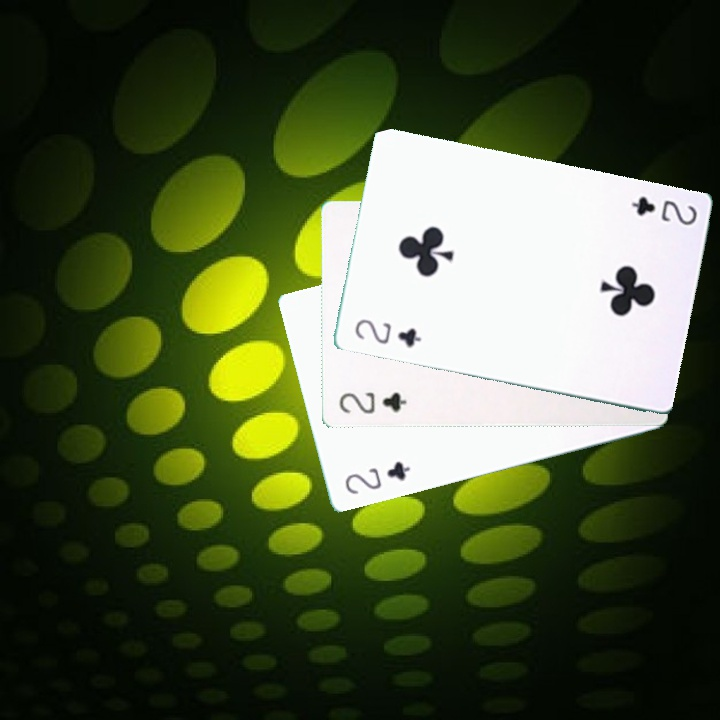2c: (341, 457, 413, 497), (350, 315, 424, 351), (626, 192, 700, 228), (335, 388, 409, 417)
